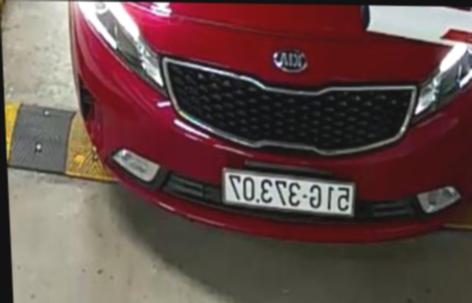License_Plate: (216, 171, 357, 214)
